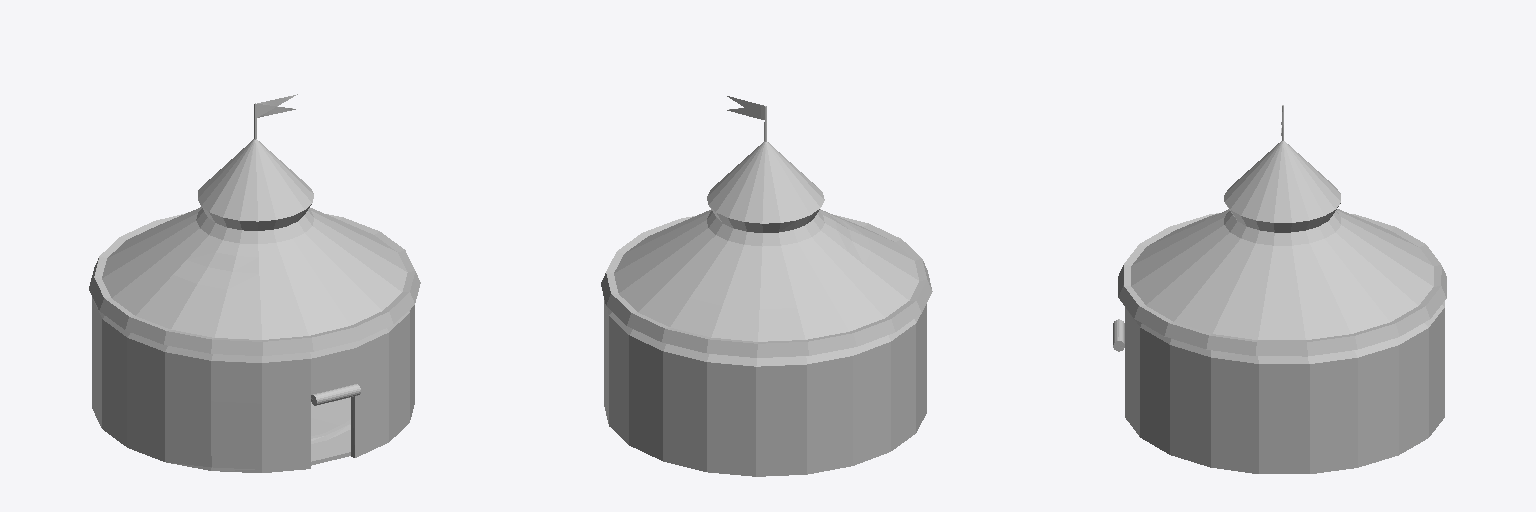
The model's file is Tent 2.obj.
3 views of the same model, side by side, from view 1: azimuth 30°, elevation 25°; view 2: azimuth 150°, elevation 25°; view 3: azimuth 270°, elevation 25° (orthographic).
Visible parts, largest first — view 1: Tent; view 2: Tent; view 3: Tent.
Boxes of the visible parts, x1,y1,x2,y2 form: Tent: [89, 94, 420, 472]; Tent: [601, 96, 932, 476]; Tent: [1113, 105, 1446, 473].
Size of the model in its own units: 2132 by 2159 by 2165.